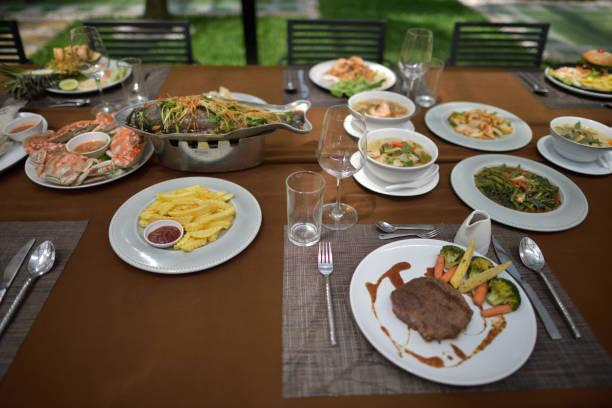Braised Crucian Carp: (349, 238, 535, 386), (107, 176, 259, 272), (449, 152, 591, 232), (119, 96, 328, 150), (24, 123, 153, 189), (352, 128, 440, 199), (425, 100, 534, 151), (537, 113, 612, 174)
